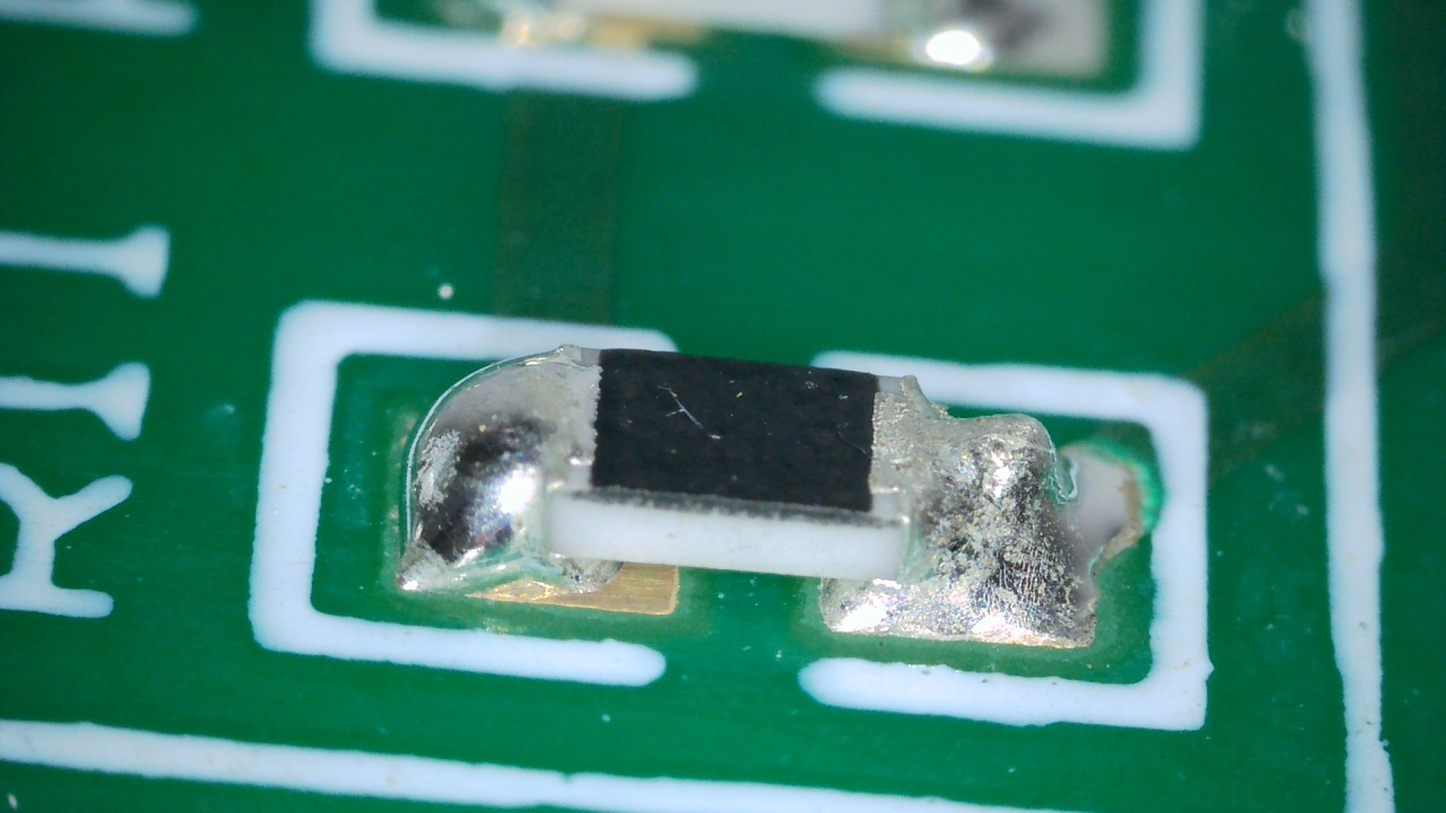NG: (822, 385, 1093, 641), (394, 346, 622, 597)
